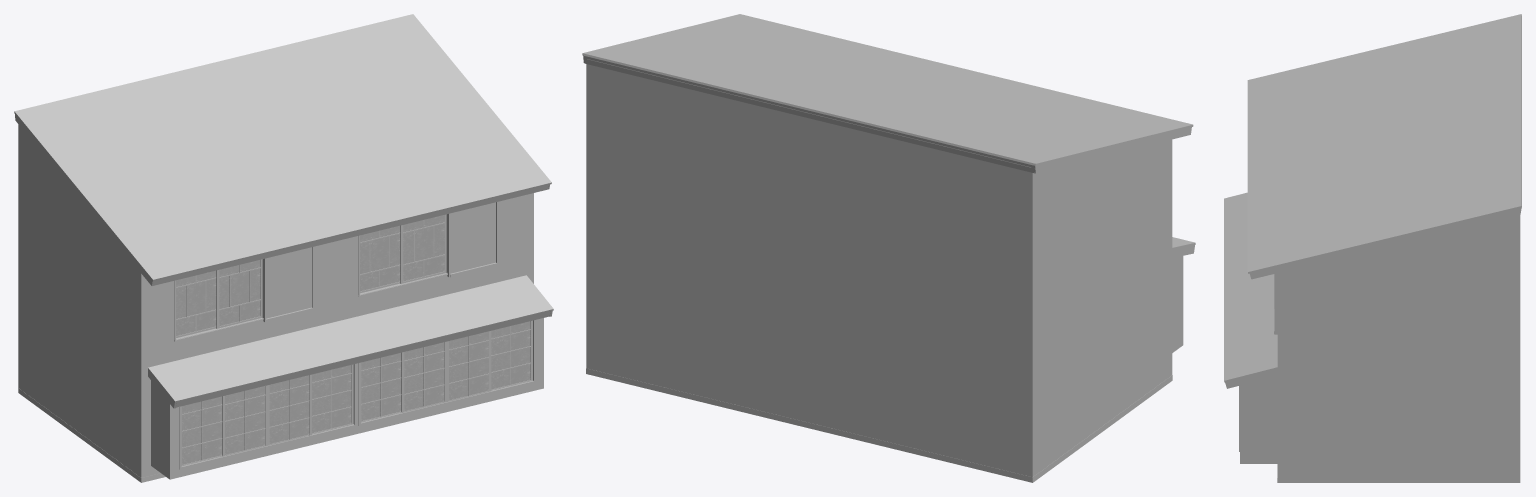
The model's file is JpHouse_29ak.fbx.
3 views of the same model, side by side, from view 1: azimuth 30°, elevation 25°; view 2: azimuth 150°, elevation 25°; view 3: azimuth 270°, elevation 25° (orthographic). The views are drawn at different scales.
Visible parts, largest first — view 1: JpHouse_29ak; view 2: JpHouse_29ak; view 3: JpHouse_29ak.
Boxes of the visible parts, bbox=[...] form: JpHouse_29ak: bbox=[14, 14, 553, 482]; JpHouse_29ak: bbox=[582, 14, 1195, 482]; JpHouse_29ak: bbox=[1224, 14, 1521, 482].
Size of the model in its own units: 8.43 by 5.69 by 5.53.
